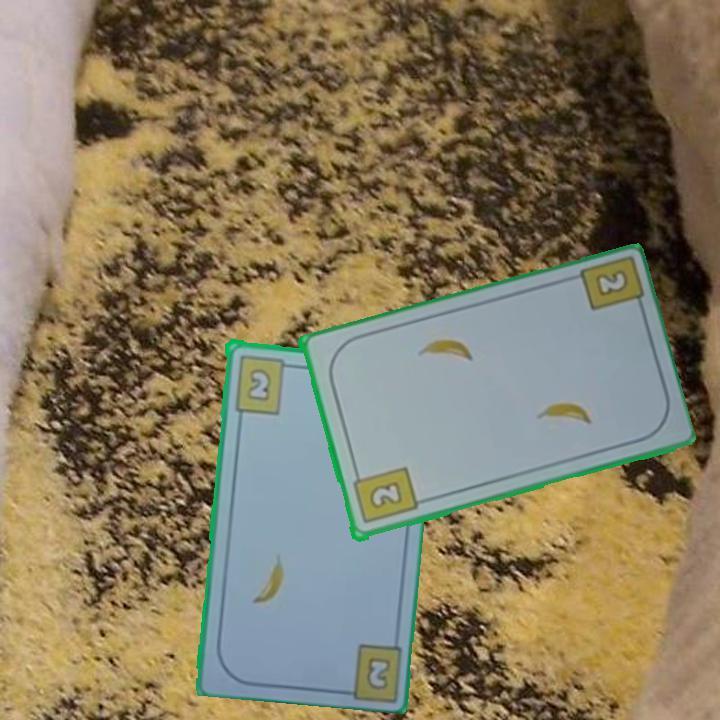2b: (349, 464, 420, 527), (230, 351, 296, 416), (591, 266, 631, 300), (362, 652, 393, 693)
